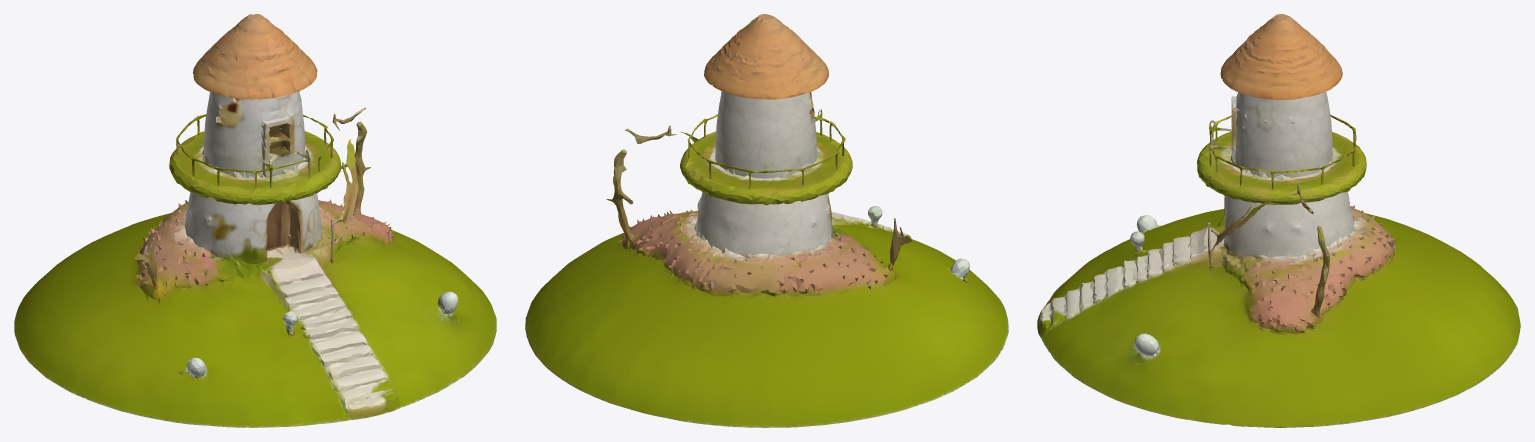
3 views of the same model, side by side, from view 1: azimuth 30°, elevation 25°; view 2: azimuth 150°, elevation 25°; view 3: azimuth 270°, elevation 25° (orthographic).
Parts seen in each view (by area): view 1: 034; view 2: 034; view 3: 034.
Boxes of the visible parts, x1,y1,x2,y2 form: 034: [14, 14, 496, 427]; 034: [525, 14, 1008, 427]; 034: [1037, 14, 1520, 427].
Size of the model in its own units: 1.9 by 1.34 by 1.9.
1 material, 1 textured.
